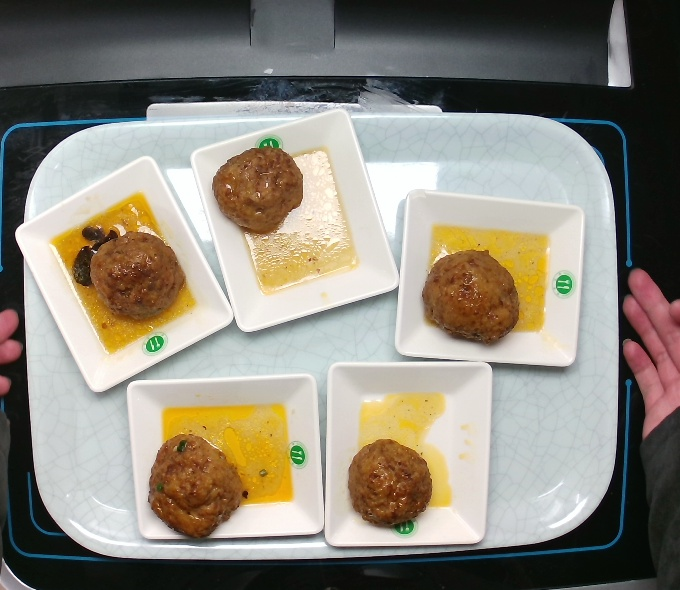wcq-ShiZiTou: (144, 426, 253, 542), (68, 221, 188, 325), (418, 246, 525, 350), (208, 137, 308, 234), (343, 430, 434, 529)
